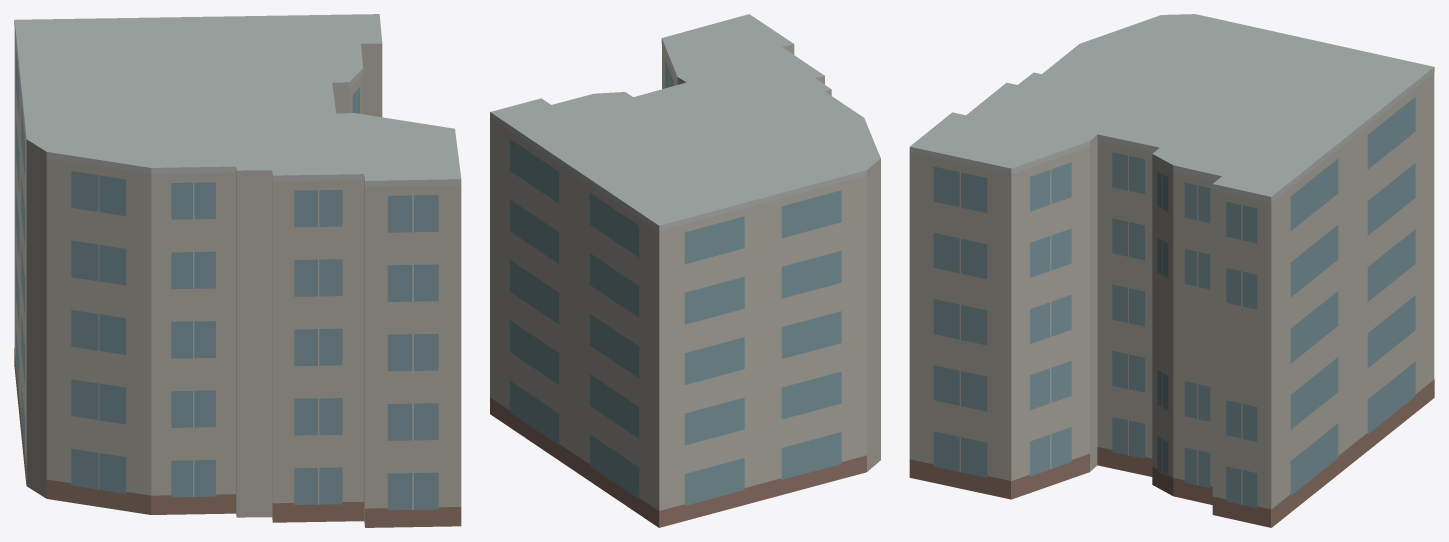
The model's file is survey-upis-32504022.glb.
The picture shows the model from 3 angles, left to right: view 1: azimuth 30°, elevation 25°; view 2: azimuth 150°, elevation 25°; view 3: azimuth 270°, elevation 25°; orthographic projection. The views are drawn at different scales.
Visible parts, largest first — view 1: survey-upis-32504022.tmp; view 2: survey-upis-32504022.tmp; view 3: survey-upis-32504022.tmp.
Part boxes in pixels (left/top/right/bottom): survey-upis-32504022.tmp: left=14, top=14, right=461, bottom=527; survey-upis-32504022.tmp: left=490, top=14, right=880, bottom=527; survey-upis-32504022.tmp: left=909, top=14, right=1434, bottom=527.
Bounding box in the file's own units: 16.49 × 13.9 × 19.98.
